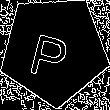P_N: (31, 21, 78, 80)
